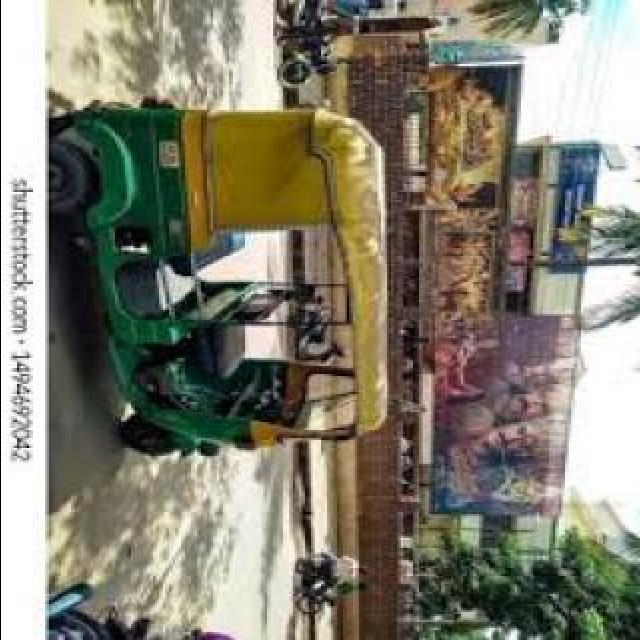Autorickshaw: (48, 92, 394, 500)
